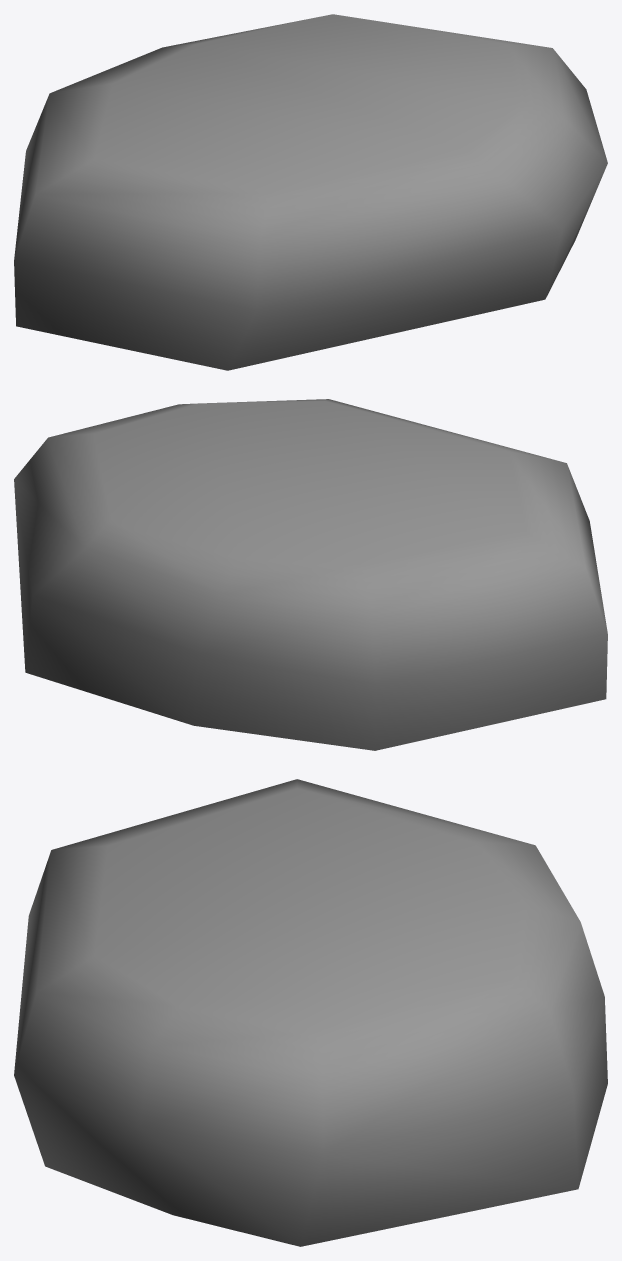
The model's file is Stone_03_B.fbx.
3 views of the same model, one above another, from view 1: azimuth 30°, elevation 25°; view 2: azimuth 150°, elevation 25°; view 3: azimuth 270°, elevation 25° (orthographic). The views are drawn at different scales.
Visible parts, largest first — view 1: Stone_03_B; view 2: Stone_03_B; view 3: Stone_03_B.
Boxes of the visible parts, <box> form: Stone_03_B: <box>14,14,607,370</box>; Stone_03_B: <box>14,399,607,750</box>; Stone_03_B: <box>14,779,607,1246</box>.
Size of the model in its own units: 2457 by 609 by 1812.
